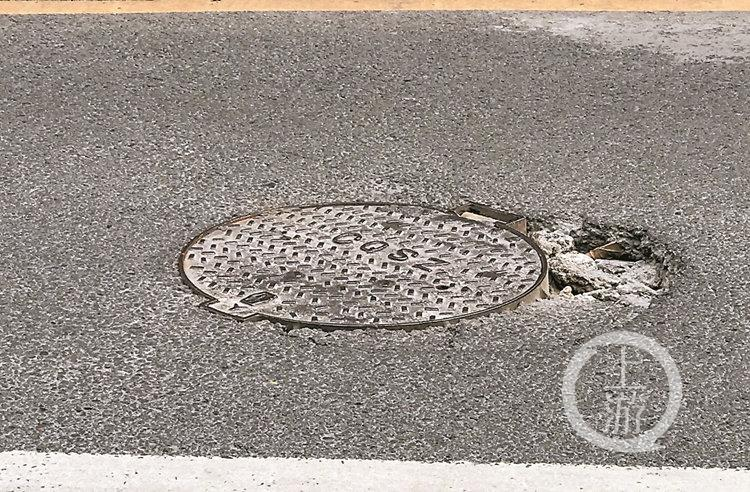circle: (171, 194, 697, 347)
